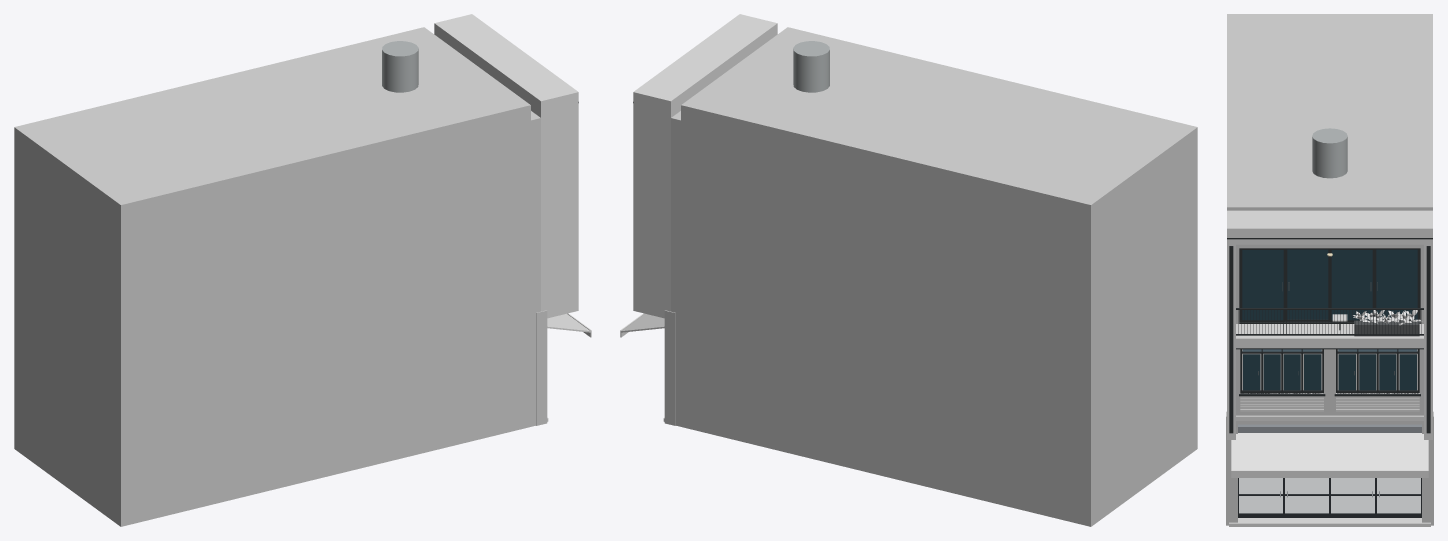
The model's file is OW_Mau_NhaPho_7_0_3.fbx.
3 renders of one model, left to right at view 1: azimuth 30°, elevation 25°; view 2: azimuth 150°, elevation 25°; view 3: azimuth 270°, elevation 25°, orthographic. The views are drawn at different scales.
Parts seen in each view (by area): view 1: OW_NhaPho_9038; view 2: OW_NhaPho_9038; view 3: OW_NhaPho_9038, OW_MatTienKinh.
Boxes of the visible parts, x1,y1,x2,y2 form: OW_NhaPho_9038: [14, 14, 591, 526]; OW_NhaPho_9038: [620, 14, 1197, 526]; OW_NhaPho_9038: [1226, 14, 1433, 526]; OW_MatTienKinh: [1238, 424, 1421, 517].
Size of the model in its own units: 17.77 by 12.85 by 7.
